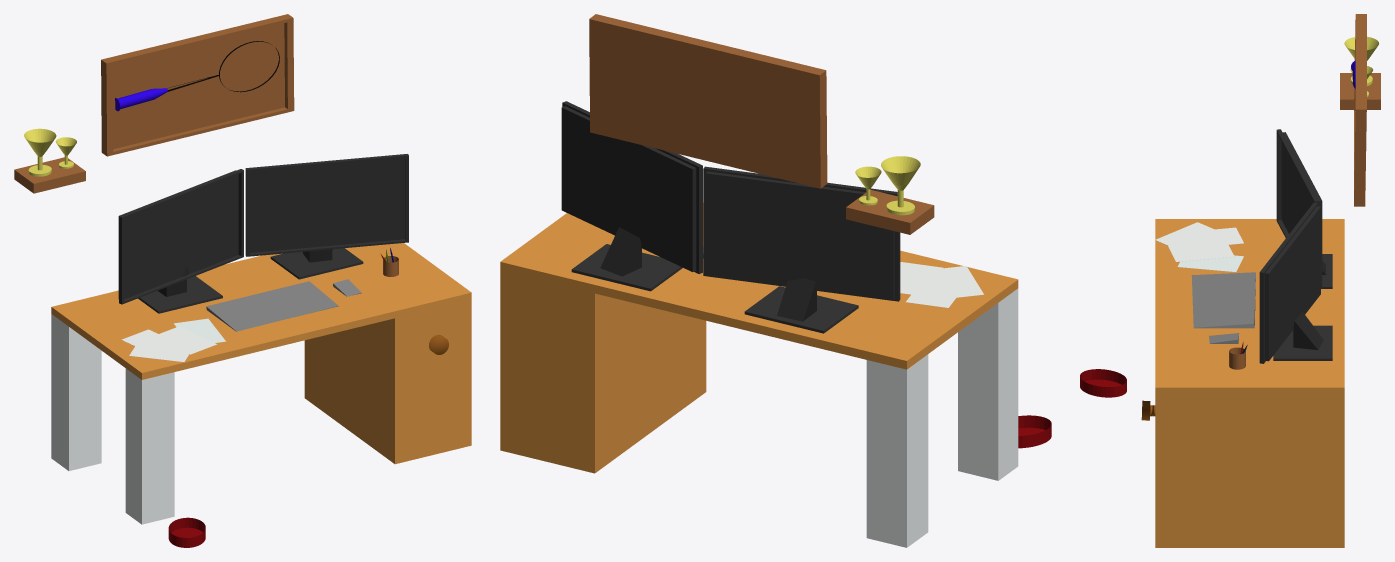
Rendered from Desktop.glb.
The picture shows the model from 3 angles, left to right: view 1: azimuth 30°, elevation 25°; view 2: azimuth 150°, elevation 25°; view 3: azimuth 270°, elevation 25°; orthographic projection. The views are drawn at different scales.
Parts seen in each view (by area): view 1: Table, Cube.009, Ecran.001, Ecran, Clavier, Cube.006, Cube.002, Cube, Cylinder.006, Cylinder.004, Cube.008, Cube.004 (+2 smaller); view 2: Table, Cube.009, Ecran, Ecran.001, Cube.002, Cube.006, Cube, Cube.005, Cube.001, Cylinder.004, Cube.004, Cylinder.006 (+2 smaller); view 3: Table, Ecran.001, Clavier, Ecran, Cube.009, Cube.006, Cylinder.006, Cube.007, Cube.002, Cube.008, Cube.004, Cube.005 (+2 smaller).
Part boxes in pixels (x1,y1,x2,y2): Table: (51, 243, 471, 524); Cube.009: (101, 14, 294, 156); Ecran.001: (245, 154, 408, 256); Ecran: (118, 169, 243, 304); Clavier: (206, 281, 338, 331); Cube.006: (270, 248, 363, 279); Cube.002: (14, 157, 85, 193); Cube: (138, 276, 222, 313); Cylinder.006: (168, 517, 205, 547); Cylinder.004: (24, 128, 56, 176); Cube.008: (152, 326, 217, 354); Cube.004: (129, 343, 193, 362); Table: (500, 203, 1018, 547); Cube.009: (589, 14, 827, 188); Ecran: (703, 166, 900, 301); Ecran.001: (561, 101, 702, 273); Cube.002: (846, 189, 934, 234); Cube.006: (571, 244, 682, 291); Cube: (744, 286, 858, 333); Cube.005: (600, 227, 641, 276); Cube.001: (777, 278, 816, 321); Cylinder.004: (881, 156, 920, 215); Cube.004: (923, 266, 983, 299); Cylinder.006: (1018, 415, 1051, 448); Table: (1155, 219, 1344, 547); Ecran.001: (1259, 202, 1320, 363); Clavier: (1191, 272, 1255, 328); Ecran: (1276, 129, 1322, 288); Cube.009: (1354, 14, 1366, 206); Cube.006: (1273, 325, 1332, 360); Cylinder.006: (1080, 369, 1126, 397); Cube.007: (1178, 227, 1243, 248); Cube.002: (1340, 73, 1380, 109); Cube.008: (1168, 244, 1234, 261); Cube.004: (1155, 222, 1215, 250); Cube.005: (1293, 312, 1323, 349).
Size of the model in its own units: 2.12 by 2.19 by 1.51.
